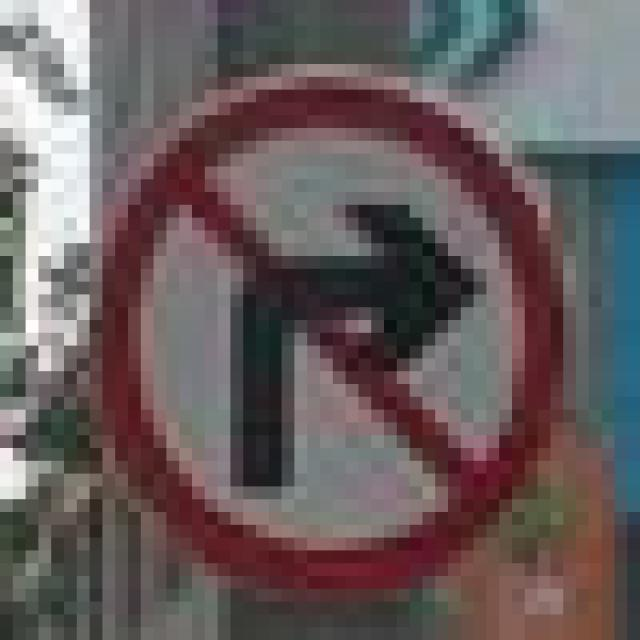right turn prohibited: (84, 57, 570, 597)
